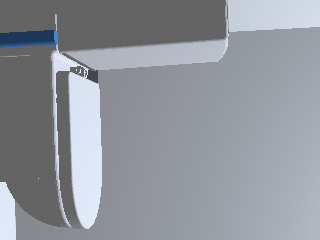lid_1: (56, 68, 101, 228)
